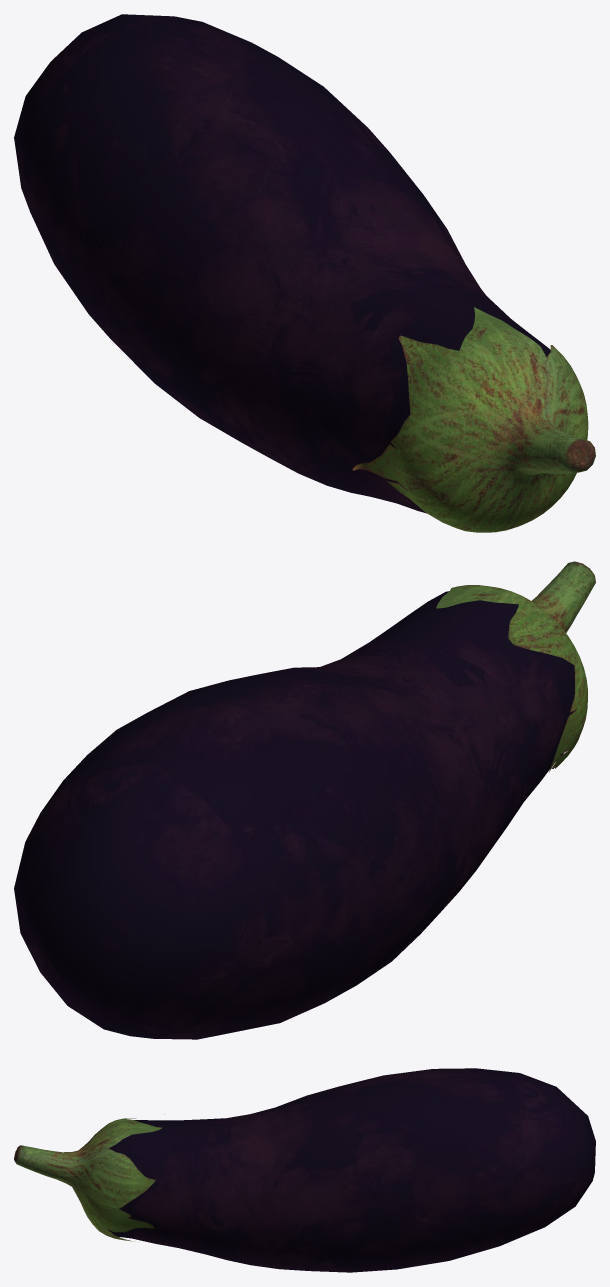
The model's file is eggplant_c01.glb.
3 views of the same model, one above another, from view 1: azimuth 30°, elevation 25°; view 2: azimuth 150°, elevation 25°; view 3: azimuth 270°, elevation 25° (orthographic). The views are drawn at different scales.
Parts seen in each view (by area): view 1: sm_food_produce_eggplant_c01_01_mesh_00; view 2: sm_food_produce_eggplant_c01_01_mesh_00; view 3: sm_food_produce_eggplant_c01_01_mesh_00.
Boxes of the visible parts, box(x1,y1,x2,y2) form: sm_food_produce_eggplant_c01_01_mesh_00: box(14, 14, 595, 532); sm_food_produce_eggplant_c01_01_mesh_00: box(14, 561, 595, 1039); sm_food_produce_eggplant_c01_01_mesh_00: box(14, 1068, 595, 1272).
Size of the model in its own units: 0.1061 by 0.1114 by 0.3154.
Materials: 1 (1 with a texture image).
